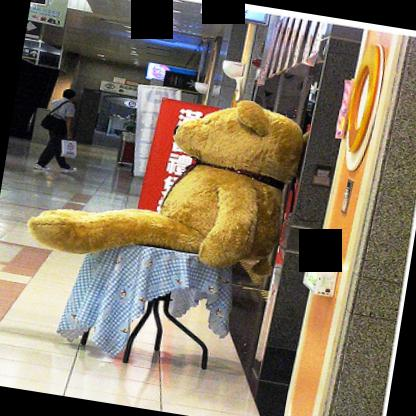handbag: (38, 100, 72, 137)
